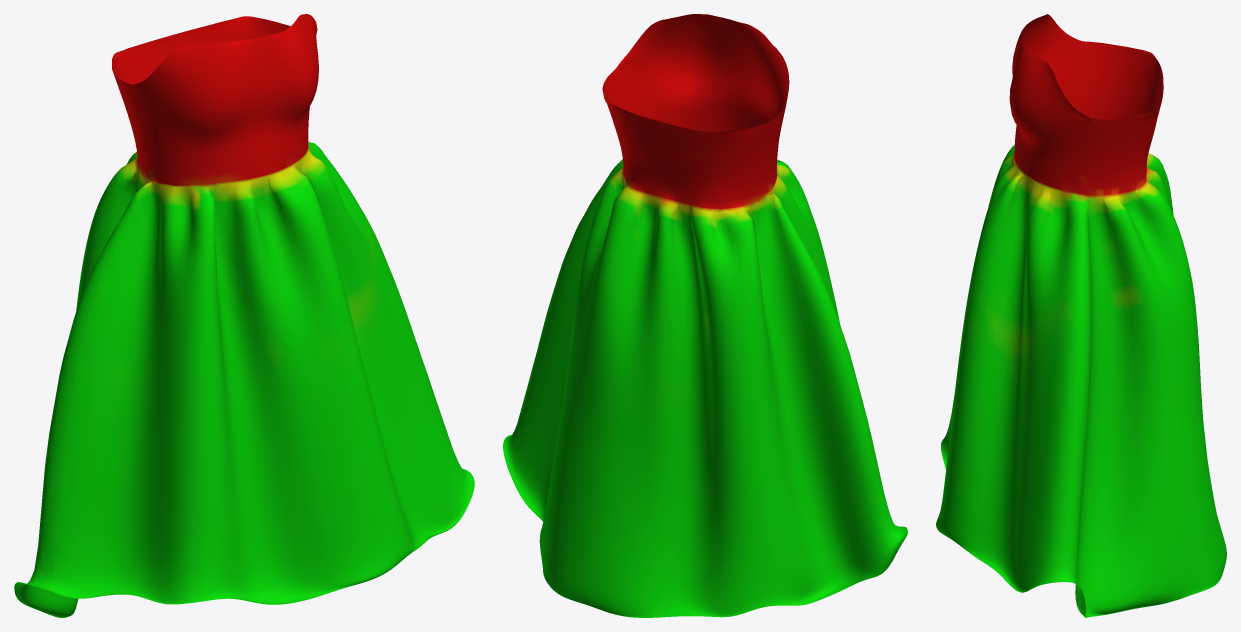
The model's file is Vestido2.fbx.
3 views of the same model, side by side, from view 1: azimuth 30°, elevation 25°; view 2: azimuth 150°, elevation 25°; view 3: azimuth 270°, elevation 25° (orthographic). The views are drawn at different scales.
Visible parts, largest first — view 1: Short Dress3; view 2: Short Dress3; view 3: Short Dress3.
Boxes of the visible parts, <box> form: Short Dress3: <box>14,14,474,617</box>; Short Dress3: <box>503,14,907,617</box>; Short Dress3: <box>936,14,1226,617</box>.
Size of the model in its own units: 93.4 by 116 by 59.75.
